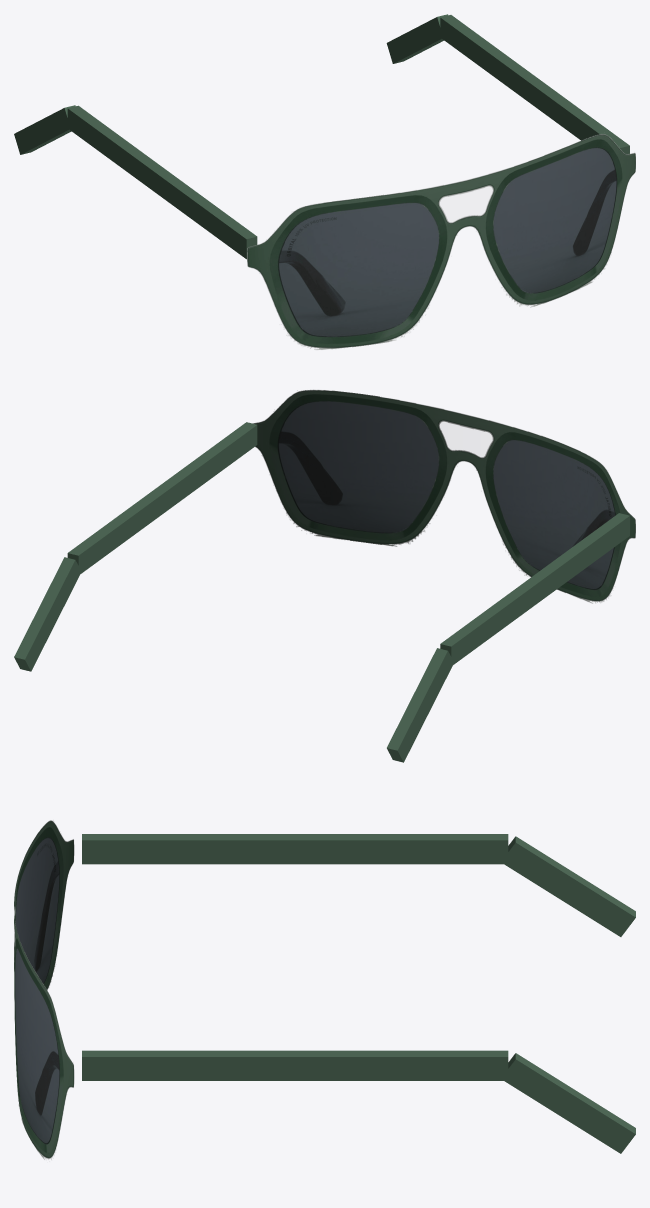
The picture shows the model from 3 angles, top to bottom: view 1: azimuth 30°, elevation 25°; view 2: azimuth 150°, elevation 25°; view 3: azimuth 270°, elevation 25°; orthographic projection. The views are drawn at different scales.
Visible parts, largest first — view 1: anteojo; view 2: anteojo; view 3: anteojo.
Boxes of the visible parts, bbox=[...] form: anteojo: bbox=[14, 14, 635, 349]; anteojo: bbox=[14, 389, 635, 762]; anteojo: bbox=[14, 820, 635, 1161].
Size of the model in its own units: 0.142 by 0.0517 by 0.165.
Materials: 2 (1 with a texture image).
